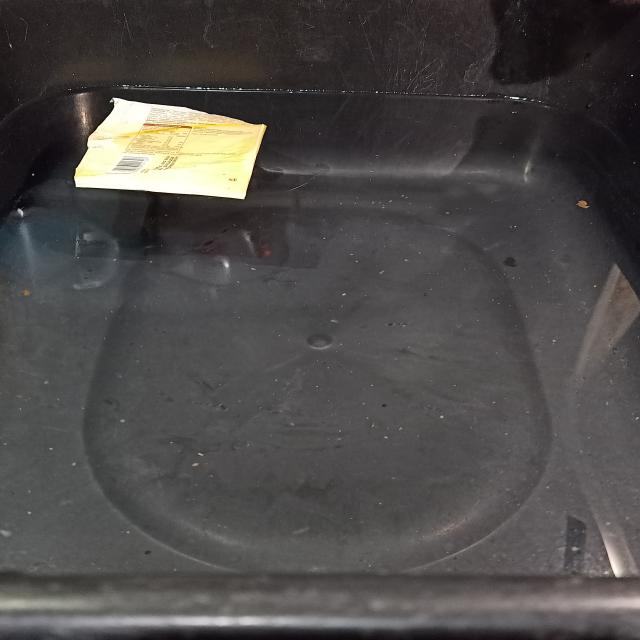Plastic Wrapper: (74, 98, 266, 199)
